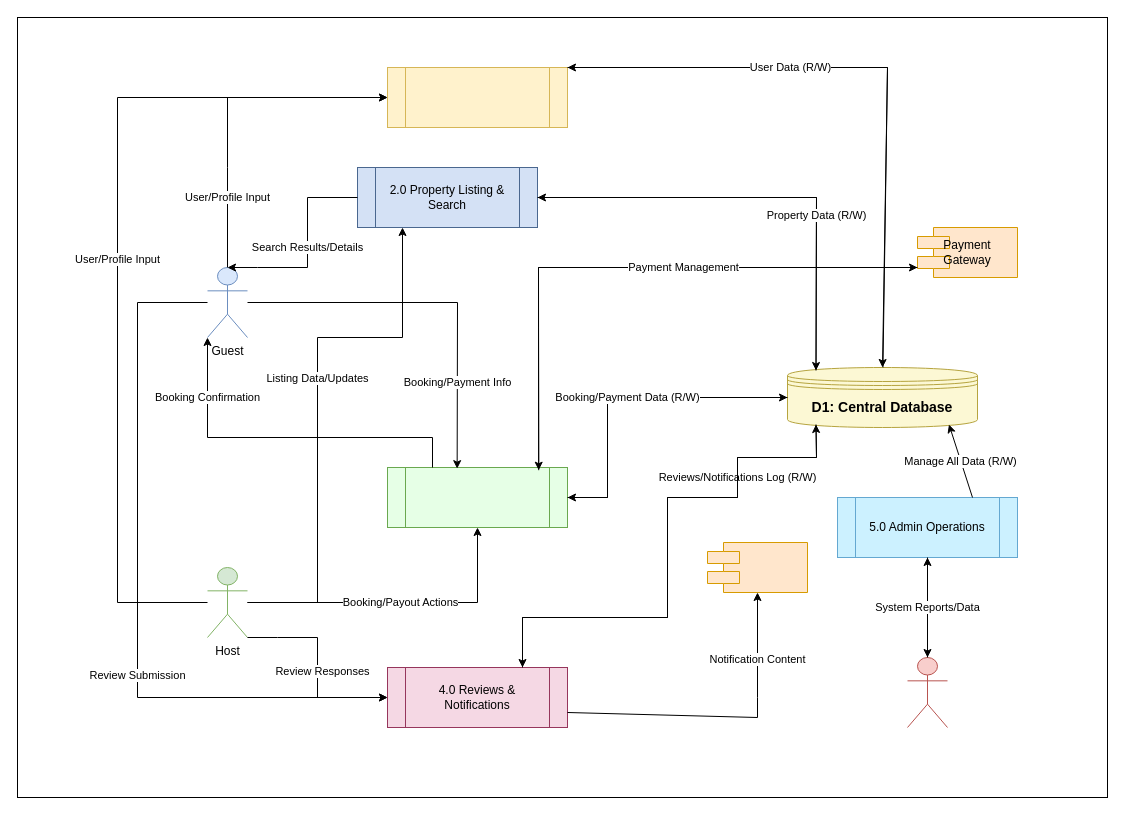
Some shapes in this 1125 by 815 pixel diagram are drawn without their labels. The centre of each missing label's shape, as x and y in pixels:
"1.0 User & Profile Management" goes at (477,97).
"3.0 Booking & Payments" goes at (477,497).
"Admin" goes at (927,692).
"Email Service" goes at (757,567).
